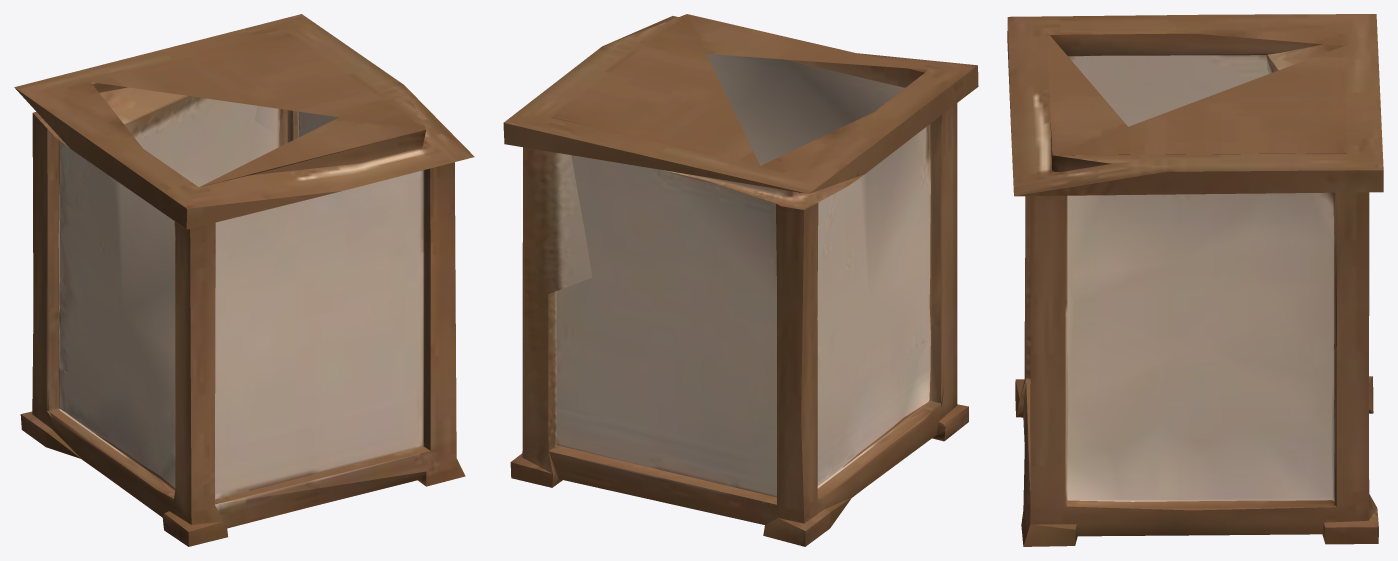
The model's file is andon.glb.
3 views of the same model, side by side, from view 1: azimuth 30°, elevation 25°; view 2: azimuth 150°, elevation 25°; view 3: azimuth 270°, elevation 25° (orthographic). The views are drawn at different scales.
Parts seen in each view (by area): view 1: andon; view 2: andon; view 3: andon.
Boxes of the visible parts, <box> form: andon: <box>14,14,474,546</box>; andon: <box>503,14,978,546</box>; andon: <box>1007,14,1383,546</box>.
Bounding box in the file's own units: 0.5567 × 0.62 × 0.5573.
Materials: 1 (1 with a texture image).
